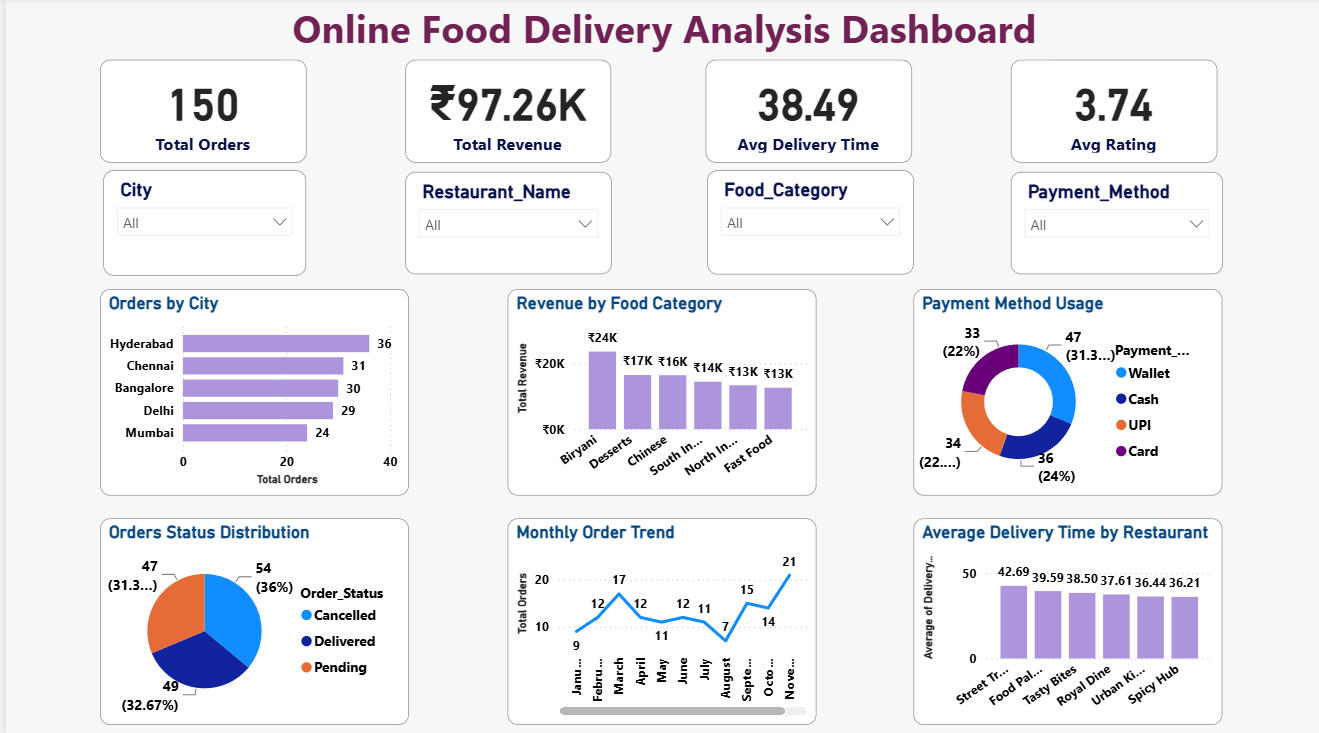

What the dashboard file says about the page in this screenshot:
{"tool":"powerbi","page":{"name":"Online Food Delivery","canvas":[1280,720],"ordinal":0},"visuals":[{"type":"card","fields":{"Values":["online_food_delivery_dataset.Total Orders"]},"box":[92,60.7,200.6,100],"z":0},{"type":"card","fields":{"Values":["online_food_delivery_dataset.Avg Rating"]},"box":[975.5,60.7,200.6,100],"z":1000},{"type":"card","fields":{"Values":["online_food_delivery_dataset.Avg Delivery Time"]},"box":[680.4,60.7,200.6,100],"z":2000},{"type":"card","fields":{"Values":["online_food_delivery_dataset.Total Revenue"]},"box":[387.1,60.7,200,100],"z":3000},{"type":"textbox","box":[266.4,0,747.3,60.7],"z":4000},{"type":"clusteredBarChart","title":"Orders by City","fields":{"Category":["online_food_delivery_dataset.City"],"Y":["online_food_delivery_dataset.Total Orders"]},"box":[92,283.5,300,200.6],"z":5000},{"type":"donutChart","title":"Payment Method Usage","fields":{"Y":["online_food_delivery_dataset.Total Orders"],"Category":["online_food_delivery_dataset.Payment_Method"]},"box":[881.7,283.5,300,200.6],"z":6000},{"type":"clusteredColumnChart","title":"Revenue by Food Category","fields":{"Category":["online_food_delivery_dataset.Food_Category"],"Y":["online_food_delivery_dataset.Total Revenue"]},"box":[486.8,283.5,300,200.6],"z":7000},{"type":"pieChart","title":"Orders Status Distribution","fields":{"Y":["online_food_delivery_dataset.Total Orders"],"Category":["online_food_delivery_dataset.Order_Status"]},"box":[92,506.2,300,200.6],"z":8000},{"type":"lineChart","title":"Monthly Order Trend","fields":{"Y":["online_food_delivery_dataset.Total Orders"],"Category":["online_food_delivery_dataset.Month"]},"box":[486.8,506.2,300,200.6],"z":9000},{"type":"clusteredColumnChart","title":"Average Delivery Time by Restaurant","fields":{"Y":["Avg(online_food_delivery_dataset.Delivery_Time_Minutes)"],"Category":["online_food_delivery_dataset.Restaurant_Name"]},"box":[881.7,506.2,300,200.6],"z":10000},{"type":"slicer","fields":{"Values":["online_food_delivery_dataset.City"]},"box":[94.6,168.3,197.2,102.6],"z":11000},{"type":"slicer","fields":{"Values":["online_food_delivery_dataset.Restaurant_Name"]},"box":[387.8,169.8,200.6,99.4],"z":12000},{"type":"slicer","fields":{"Values":["online_food_delivery_dataset.Food_Category"]},"box":[681.6,168.9,200.6,101.2],"z":13000},{"type":"slicer","fields":{"Values":["online_food_delivery_dataset.Payment_Method"]},"box":[975.5,169.3,206.1,99.4],"z":14000}]}

Visuals, with their boxes in screenshot pixels (x1, y1, x2, y2), scaled from the page's 1280x720 canvas onto the 1319x733 screenshot:
card - online_food_delivery_dataset.Total Orders: Rect(95, 62, 302, 164)
card - online_food_delivery_dataset.Avg Rating: Rect(1005, 62, 1212, 164)
card - online_food_delivery_dataset.Avg Delivery Time: Rect(701, 62, 908, 164)
card - online_food_delivery_dataset.Total Revenue: Rect(399, 62, 605, 164)
textbox: Rect(275, 0, 1045, 62)
"Orders by City" clusteredBarChart: Rect(95, 289, 404, 493)
"Payment Method Usage" donutChart: Rect(909, 289, 1218, 493)
"Revenue by Food Category" clusteredColumnChart: Rect(502, 289, 811, 493)
"Orders Status Distribution" pieChart: Rect(95, 515, 404, 720)
"Monthly Order Trend" lineChart: Rect(502, 515, 811, 720)
"Average Delivery Time by Restaurant" clusteredColumnChart: Rect(909, 515, 1218, 720)
slicer - online_food_delivery_dataset.City: Rect(97, 171, 301, 276)
slicer - online_food_delivery_dataset.Restaurant_Name: Rect(400, 173, 606, 274)
slicer - online_food_delivery_dataset.Food_Category: Rect(702, 172, 909, 275)
slicer - online_food_delivery_dataset.Payment_Method: Rect(1005, 172, 1218, 274)
